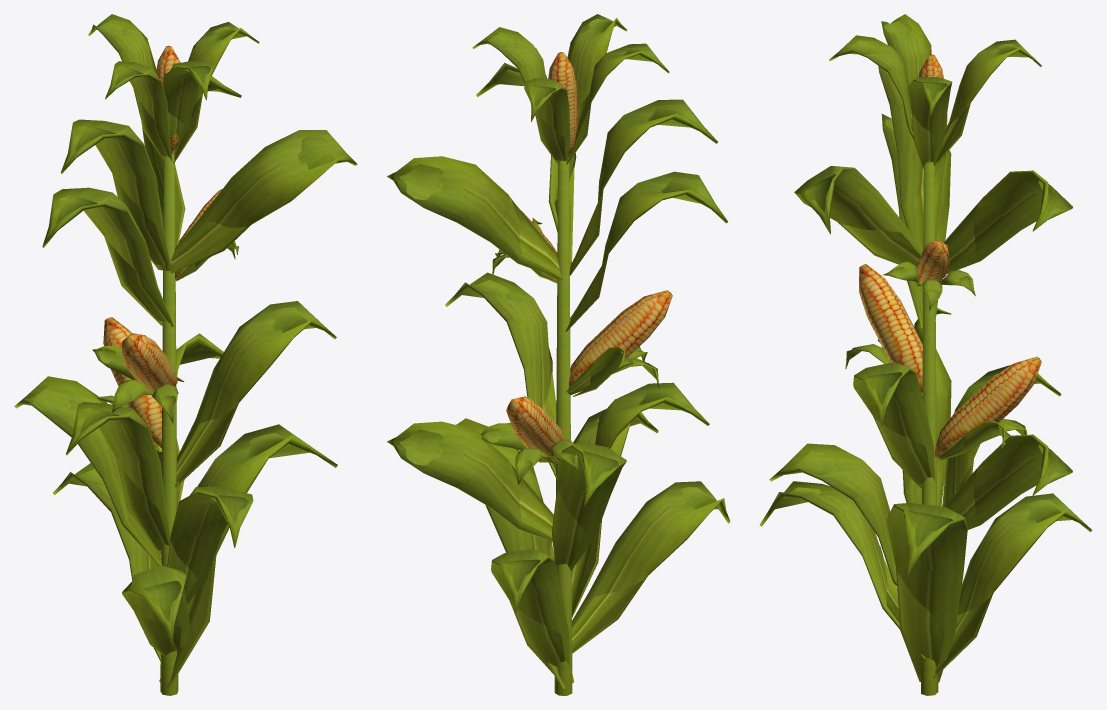
File: corn.fbx
3 views of the same model, side by side, from view 1: azimuth 30°, elevation 25°; view 2: azimuth 150°, elevation 25°; view 3: azimuth 270°, elevation 25° (orthographic).
Parts seen in each view (by area): view 1: Circle_020; view 2: Circle_020; view 3: Circle_020.
Part boxes in pixels (<box>): Circle_020: <box>14,14,357,695</box>; Circle_020: <box>387,14,730,695</box>; Circle_020: <box>759,14,1092,695</box>.
Bounding box in the file's own units: 1.88 × 3.87 × 1.8.
